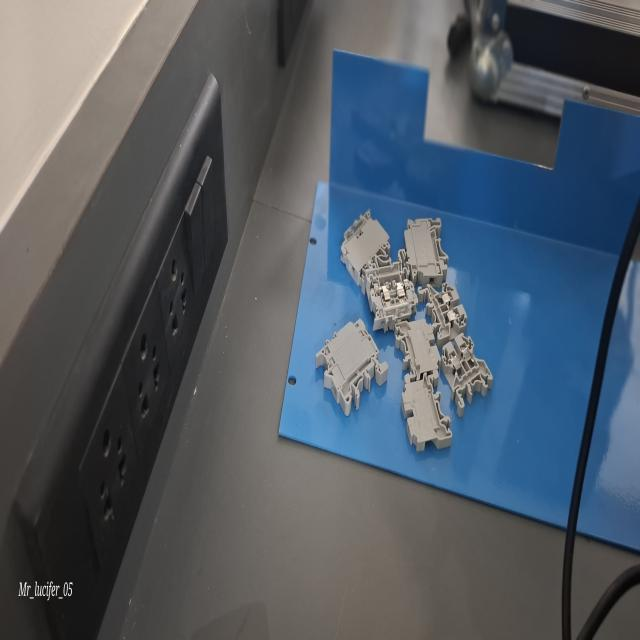Inverted: (396, 366, 458, 459), (392, 310, 444, 384)
Pass: (438, 332, 496, 420), (414, 277, 471, 345)
